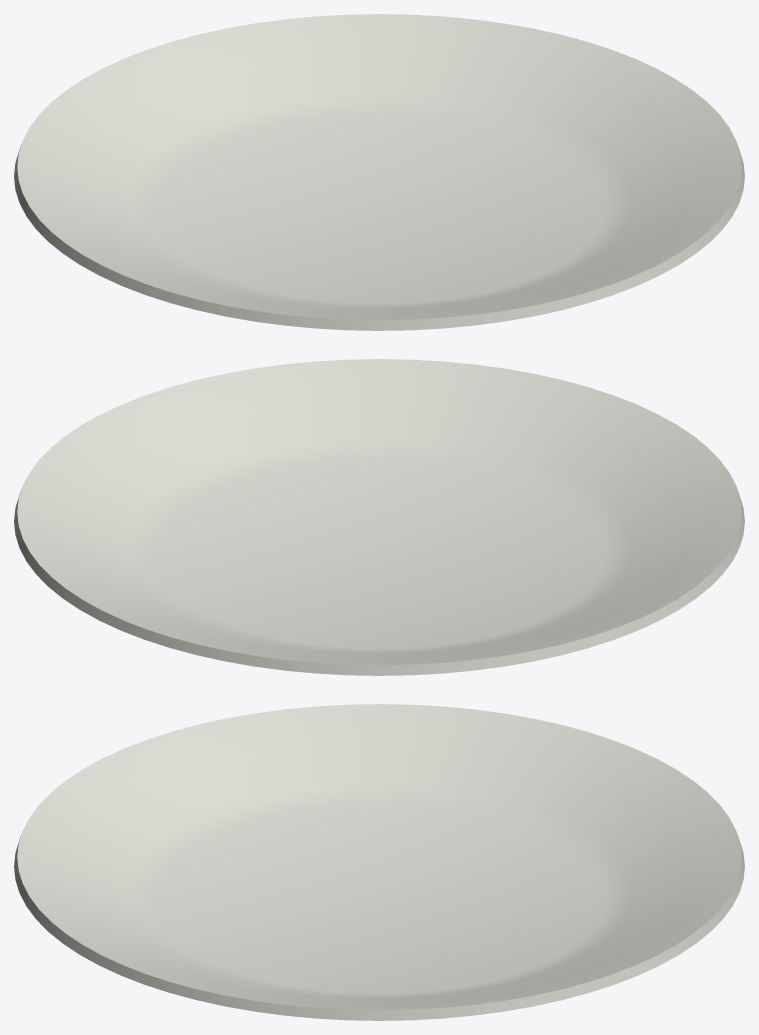
The model's file is dinner-plate-27-cm-white-porcelain_displaying_foods.glb.
The picture shows the model from 3 angles, top to bottom: view 1: azimuth 30°, elevation 25°; view 2: azimuth 150°, elevation 25°; view 3: azimuth 270°, elevation 25°; orthographic projection.
Parts seen in each view (by area): view 1: Dinner plate 27 cm - Porcelain, white glaze; view 2: Dinner plate 27 cm - Porcelain, white glaze; view 3: Dinner plate 27 cm - Porcelain, white glaze.
Part boxes in pixels (bbox=[...]): Dinner plate 27 cm - Porcelain, white glaze: bbox=[14, 14, 744, 330]; Dinner plate 27 cm - Porcelain, white glaze: bbox=[14, 359, 744, 675]; Dinner plate 27 cm - Porcelain, white glaze: bbox=[14, 704, 744, 1020].
Size of the model in its own units: 0.2712 by 0.0239 by 0.2712.
Materials: 1 (1 with a texture image).
